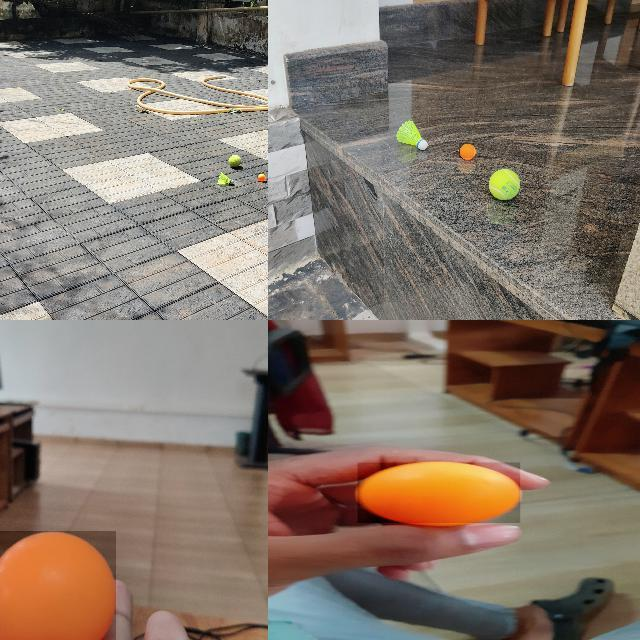ping-pong-ball: (0, 530, 117, 639), (358, 462, 522, 524), (459, 143, 475, 159), (257, 173, 265, 181)
